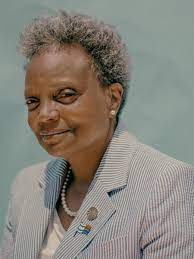person: (22, 11, 123, 160)
